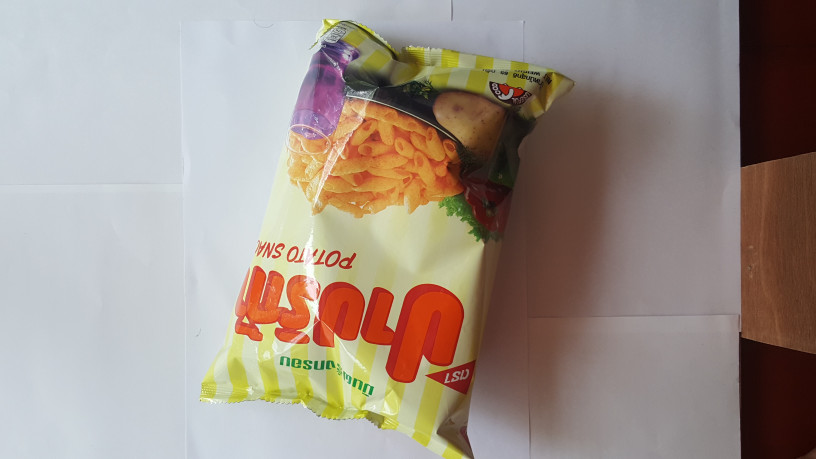paprika: (179, 9, 581, 459)
